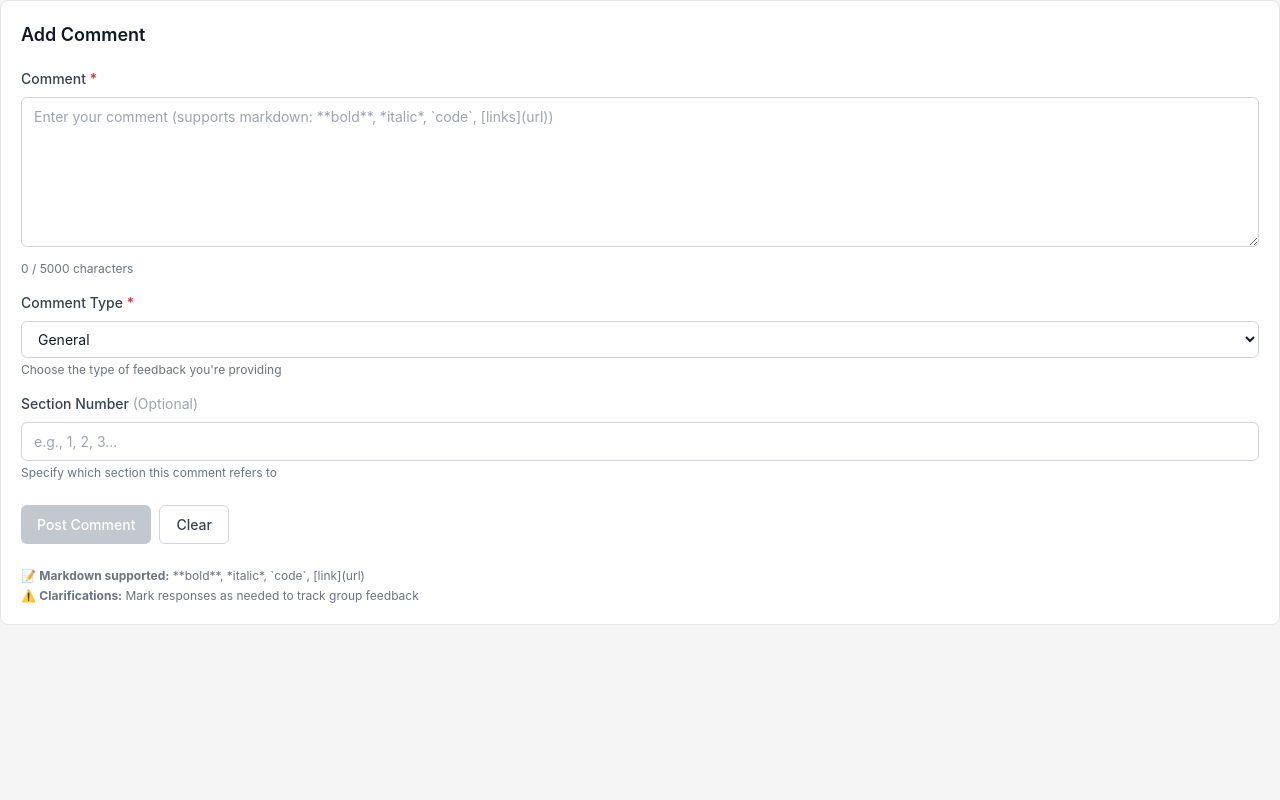
it: AddCommentForm › API Integration - Submit › success: shows confirmation message
Type "My comment" into the text box named "Comment content" at (640, 172), box [21,97,1259,247]
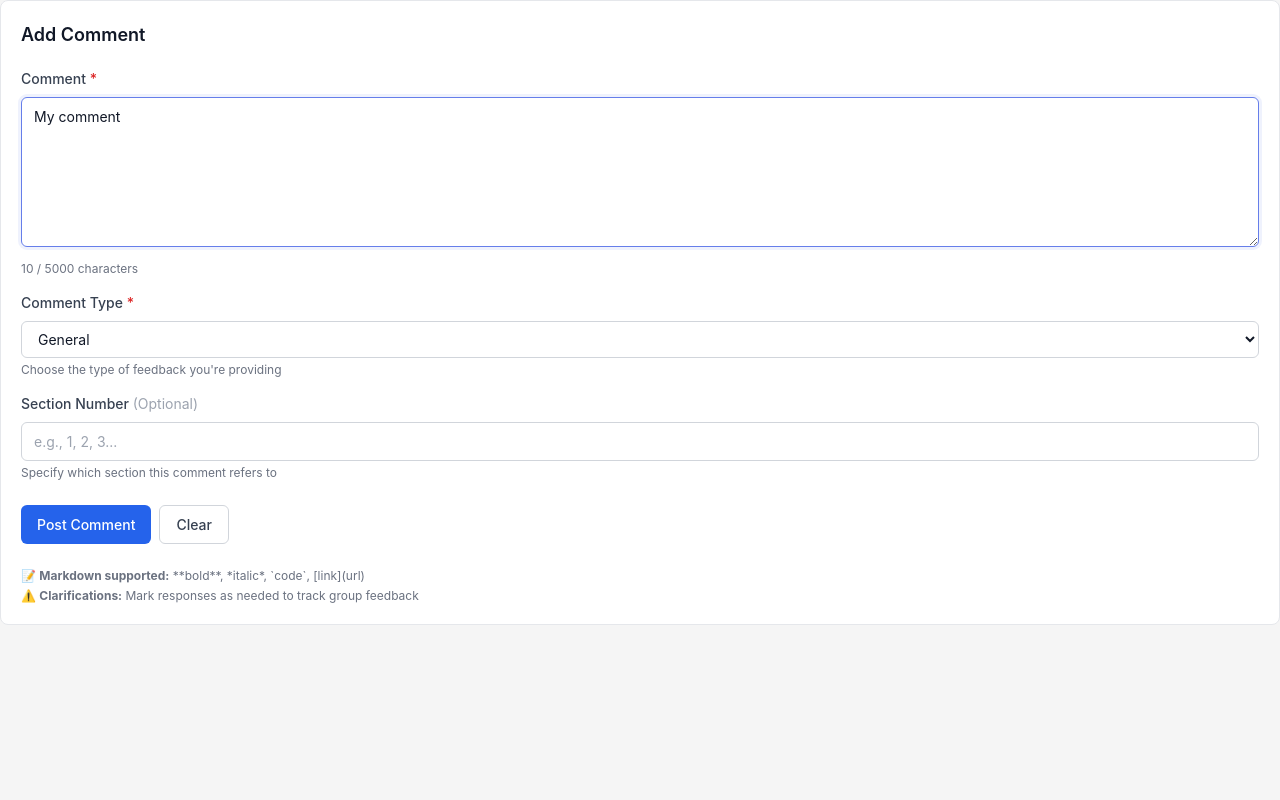
Click the button with aria-label "Submit comment" at (86, 524), box [21,505,151,544]
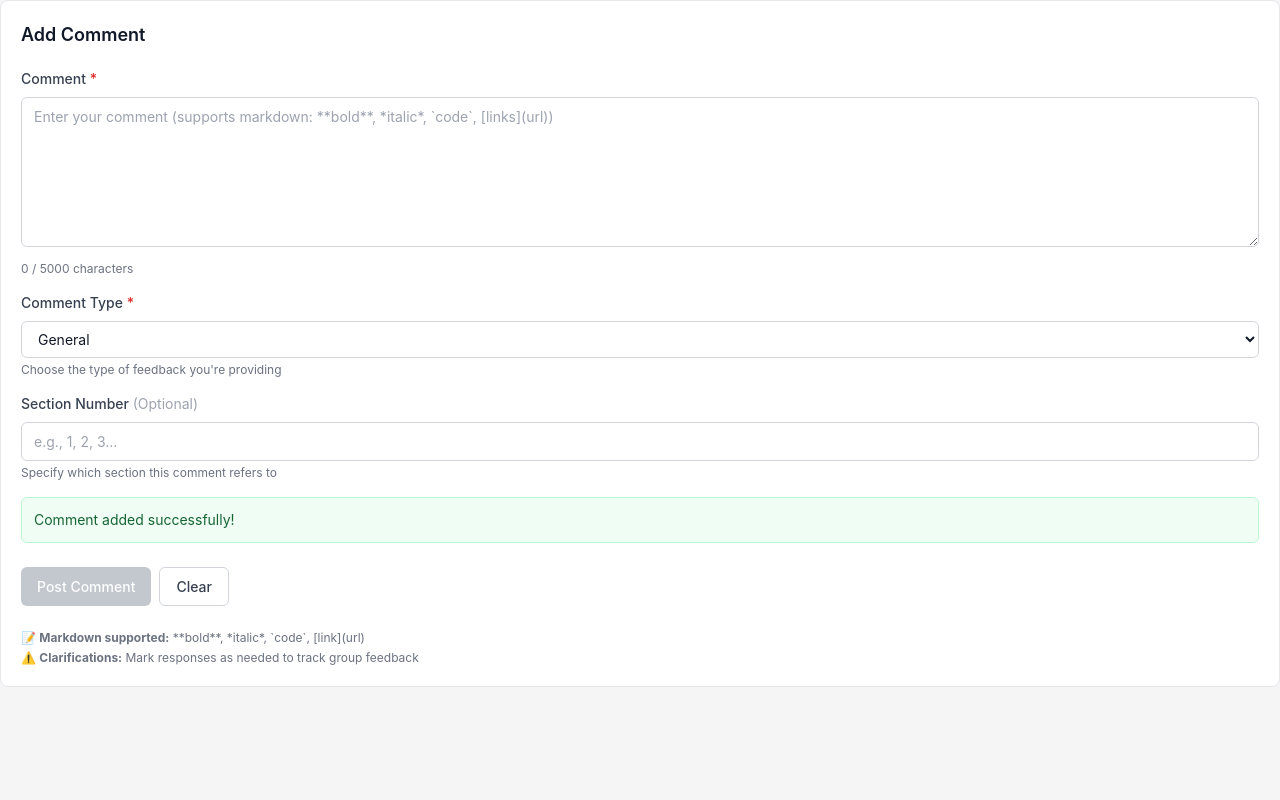
Check: the text "Comment added successfully!" is shown, box [34,511,235,528]
